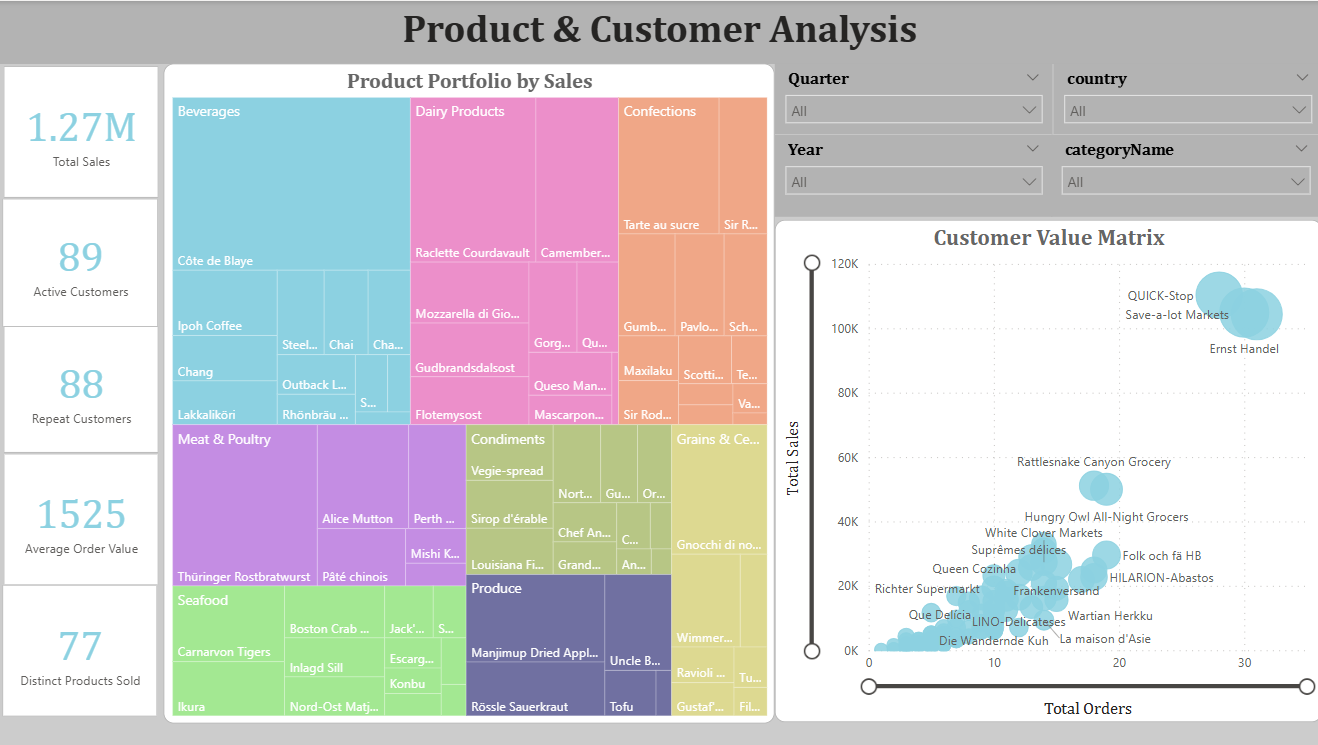

This screenshot's page, from the dashboard's own definition file:
{"tool":"powerbi","page":{"name":"Product & Customer Analysis","canvas":[1280,720],"ordinal":2},"visuals":[{"type":"textbox","box":[0,0,1280.5,60.6],"z":0},{"type":"scatterChart","title":"Customer Value Matrix","fields":{"X":["_Measures.Total Orders"],"Y":["_Measures.Total Sales"],"Category":["customers.companyName"],"Size":["_Measures.Total Quantity"]},"box":[751.5,211.4,527.8,484.5],"z":1000},{"type":"treemap","title":"Product Portfolio by Sales","fields":{"Group":["categories.categoryName"],"Details":["products.productName"],"Values":["_Measures.Total Sales"]},"box":[161.9,60.6,589.6,636.5],"z":2000},{"type":"slicer","fields":{"Values":["customers.country"]},"box":[1019.7,60.6,259.6,68],"z":3000},{"type":"slicer","fields":{"Values":["categories.categoryName"]},"box":[1018.5,128.5,260.8,79.1],"z":4000},{"type":"slicer","fields":{"Values":["Calendar.Quarter"]},"box":[751.5,60.6,268.2,68],"z":5000},{"type":"slicer","fields":{"Values":["Calendar.Year"]},"box":[751.5,128.5,268.2,79.1],"z":6000},{"type":"card","fields":{"Values":["_Measures.Total Sales"]},"box":[7.4,63,149.6,127.3],"z":7000},{"type":"card","fields":{"Values":["_Measures.Active Customers"]},"box":[6.2,190.3,150.8,123.6],"z":8000},{"type":"card","fields":{"Values":["_Measures.Repeat Customers"]},"box":[7.4,313.9,149.6,122.4],"z":9000},{"type":"card","fields":{"Values":["_Measures.Average Order Value"]},"box":[7.4,436.3,149.6,127.3],"z":10000},{"type":"card","fields":{"Values":["_Measures.Distinct Products Sold"]},"box":[6.2,563.6,149.6,127.3],"z":11000}]}

Visuals, with their boxes in screenshot pixels (x1, y1, x2, y2), scaled from the page's 1280x720 canvas onto the 1318x745 screenshot:
textbox: bbox=(0, 0, 1317, 63)
"Customer Value Matrix" scatterChart: bbox=(774, 219, 1317, 720)
"Product Portfolio by Sales" treemap: bbox=(167, 63, 774, 721)
slicer - customers.country: bbox=(1050, 63, 1317, 133)
slicer - categories.categoryName: bbox=(1049, 133, 1317, 215)
slicer - Calendar.Quarter: bbox=(774, 63, 1050, 133)
slicer - Calendar.Year: bbox=(774, 133, 1050, 215)
card - _Measures.Total Sales: bbox=(8, 65, 162, 197)
card - _Measures.Active Customers: bbox=(6, 197, 162, 325)
card - _Measures.Repeat Customers: bbox=(8, 325, 162, 451)
card - _Measures.Average Order Value: bbox=(8, 451, 162, 583)
card - _Measures.Distinct Products Sold: bbox=(6, 583, 160, 715)
